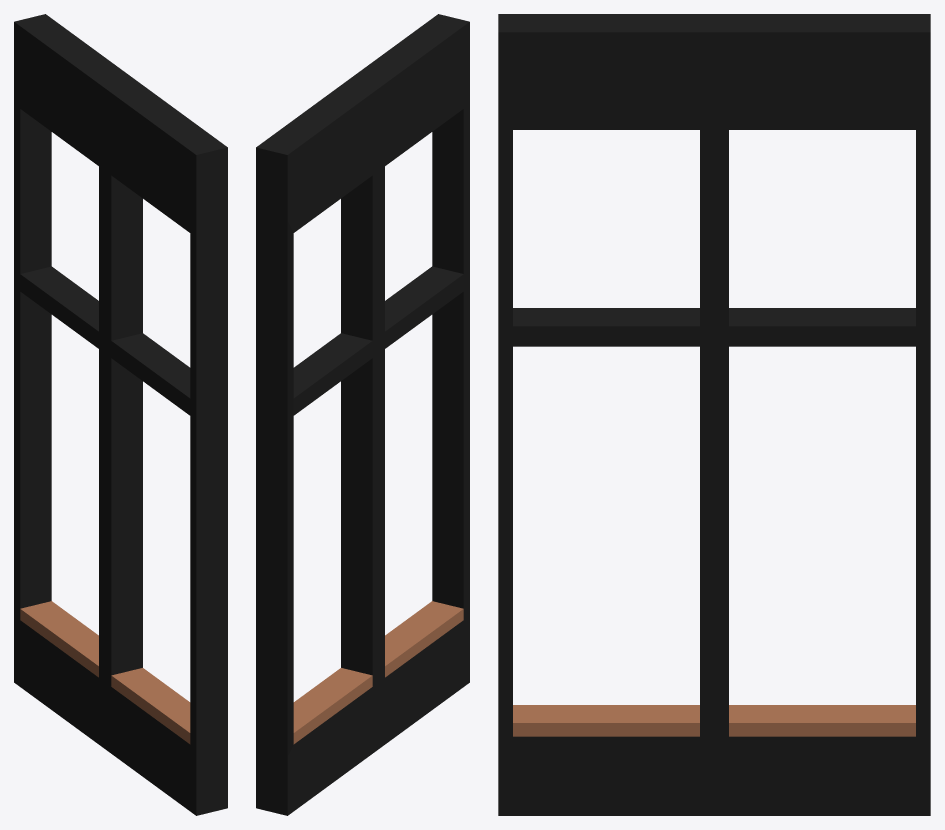
Rendered from SM_Build_Fenster_Schwarz_klein.fbx.
3 views of the same model, side by side, from view 1: azimuth 30°, elevation 25°; view 2: azimuth 150°, elevation 25°; view 3: azimuth 270°, elevation 25° (orthographic). The views are drawn at different scales.
Parts seen in each view (by area): view 1: Fenster Schwarz klein; view 2: Fenster Schwarz klein; view 3: Fenster Schwarz klein.
Part boxes in pixels (x1,y1,x2,y2): Fenster Schwarz klein: (14,14,227,815); Fenster Schwarz klein: (256,14,469,815); Fenster Schwarz klein: (498,14,930,815).
Bounding box in the file's own units: 0.2 × 4 × 2.
